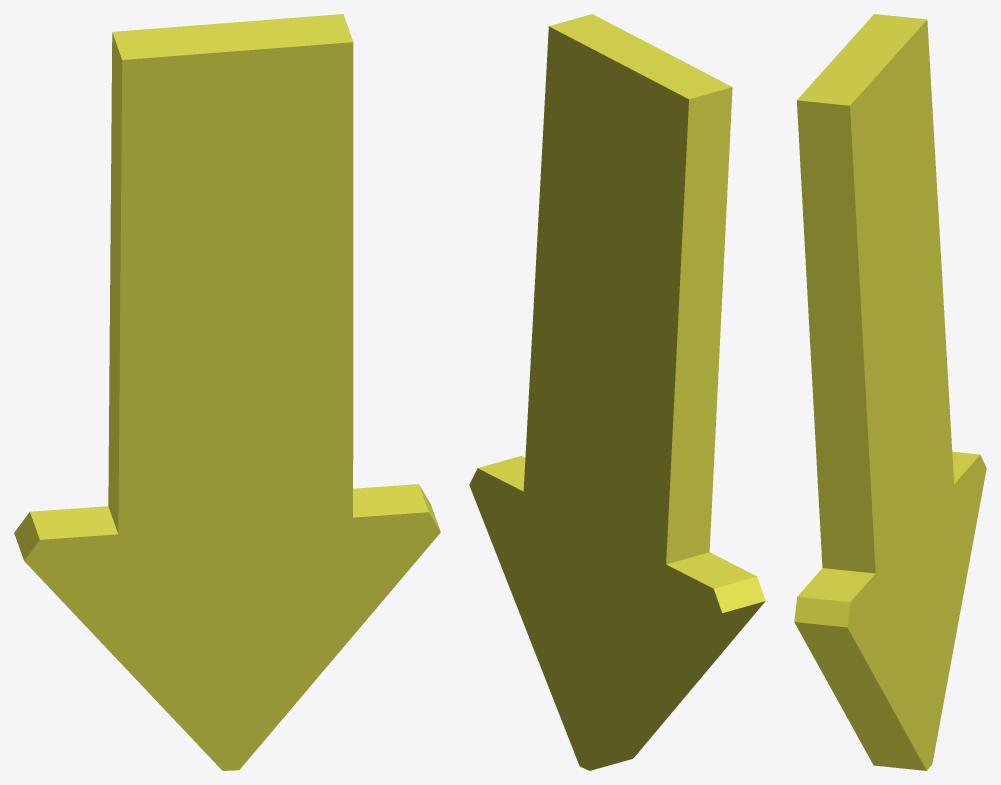
Rendered from ARROW.fbx.
The picture shows the model from 3 angles, left to right: view 1: azimuth 30°, elevation 25°; view 2: azimuth 150°, elevation 25°; view 3: azimuth 270°, elevation 25°; orthographic projection. The views are drawn at different scales.
Parts seen in each view (by area): view 1: pCube1; view 2: pCube1; view 3: pCube1.
Part boxes in pixels (box(x1,y1,x2,y2)): pCube1: box(14, 14, 440, 770); pCube1: box(469, 14, 765, 770); pCube1: box(794, 14, 986, 770).
Bounding box in the file's own units: 86.74 × 171 × 42.38.
